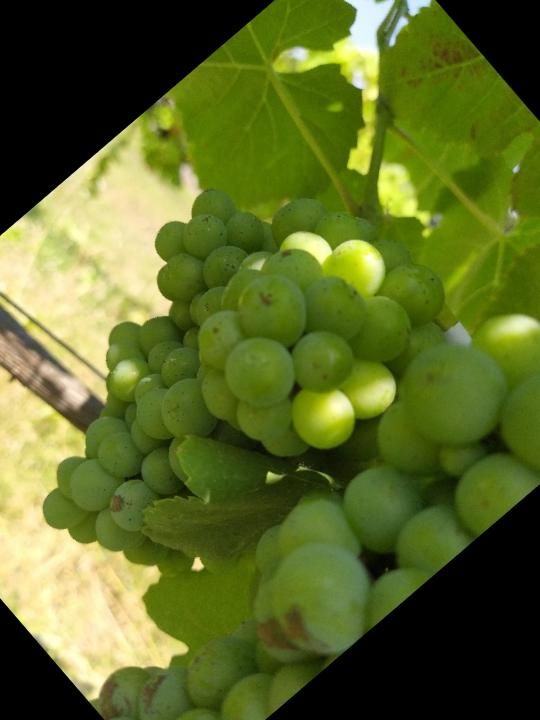grape: (0, 108, 477, 620)
